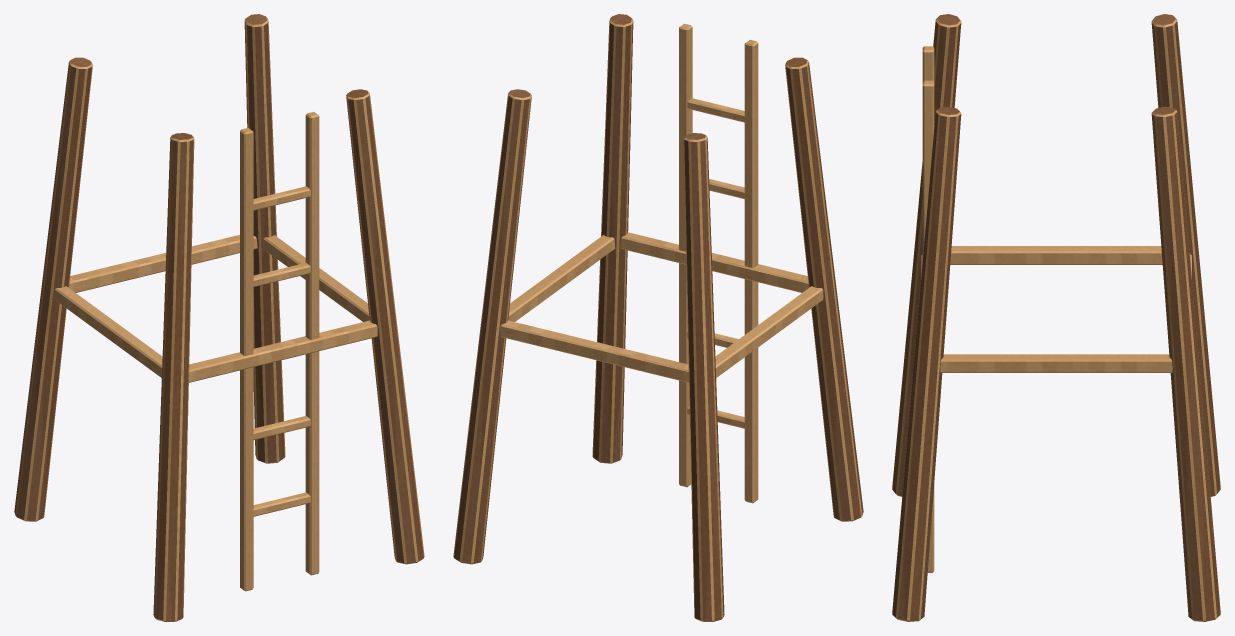
Rendered from sm_watchtower_base.glb.
3 renders of one model, left to right at view 1: azimuth 30°, elevation 25°; view 2: azimuth 150°, elevation 25°; view 3: azimuth 270°, elevation 25°, orthographic. The views are drawn at different scales.
Visible parts, largest first — view 1: sm_watchtower_base; view 2: sm_watchtower_base; view 3: sm_watchtower_base.
Boxes of the visible parts, <box> form: sm_watchtower_base: <box>14,14,424,621</box>; sm_watchtower_base: <box>453,14,863,621</box>; sm_watchtower_base: <box>892,14,1220,621</box>.
Bounding box in the file's own units: 0.9751 × 1.61 × 0.9751.
1 material, 1 textured.
